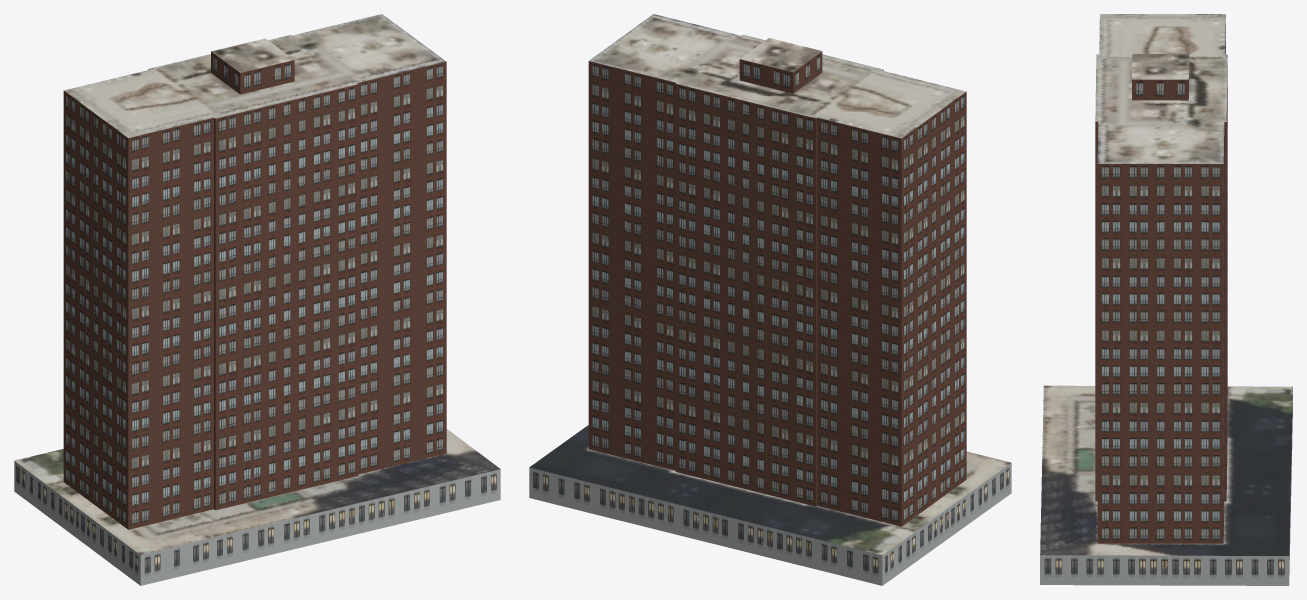
Rendered from building21.fbx.
The picture shows the model from 3 angles, left to right: view 1: azimuth 30°, elevation 25°; view 2: azimuth 150°, elevation 25°; view 3: azimuth 270°, elevation 25°; orthographic projection. The views are drawn at different scales.
Visible parts, largest first — view 1: Object.1496, geometryt040100010000000110110100010110110100110st58_Fi_8309, geometryt040100010000000110110100010110110100110st61_Fi_750b, geometryt040100010000000110110100010110110100110st59_Fi_b1ea, geometryt040100010000000110110100010110110100110st60_Fi_ed9e; view 2: Object.1496, geometryt040100010000000110110100010110110100110st58_Fi_8309, geometryt040100010000000110110100010110110100110st61_Fi_750b, geometryt040100010000000110110100010110110100110st59_Fi_b1ea, geometryt040100010000000110110100010110110100110st60_Fi_ed9e; view 3: Object.1496, geometryt040100010000000110110100010110110100110st61_Fi_750b, geometryt040100010000000110110100010110110100110st58_Fi_8309, geometryt040100010000000110110100010110110100110st59_Fi_b1ea, geometryt040100010000000110110100010110110100110st60_Fi_ed9e.
Boxes of the visible parts, box(x1,y1,x2,y2) form: Object.1496: box(65, 52, 444, 529); geometryt040100010000000110110100010110110100110st58_Fi_8309: box(63, 51, 446, 529); geometryt040100010000000110110100010110110100110st61_Fi_750b: box(14, 14, 500, 554); geometryt040100010000000110110100010110110100110st59_Fi_b1ea: box(15, 462, 498, 577); geometryt040100010000000110110100010110110100110st60_Fi_ed9e: box(14, 461, 500, 585); Object.1496: box(590, 52, 965, 525); geometryt040100010000000110110100010110110100110st58_Fi_8309: box(588, 51, 966, 526); geometryt040100010000000110110100010110110100110st61_Fi_750b: box(529, 14, 1011, 555); geometryt040100010000000110110100010110110100110st59_Fi_b1ea: box(531, 464, 1010, 577); geometryt040100010000000110110100010110110100110st60_Fi_ed9e: box(529, 463, 1011, 585); Object.1496: box(1100, 24, 1227, 543); geometryt040100010000000110110100010110110100110st61_Fi_750b: box(1040, 14, 1292, 555); geometryt040100010000000110110100010110110100110st58_Fi_8309: box(1095, 79, 1226, 543); geometryt040100010000000110110100010110110100110st59_Fi_b1ea: box(1042, 388, 1292, 578); geometryt040100010000000110110100010110110100110st60_Fi_ed9e: box(1040, 411, 1292, 585).
Bounding box in the file's own units: 6113 × 7200 × 3831.
5 materials, 5 textured.
